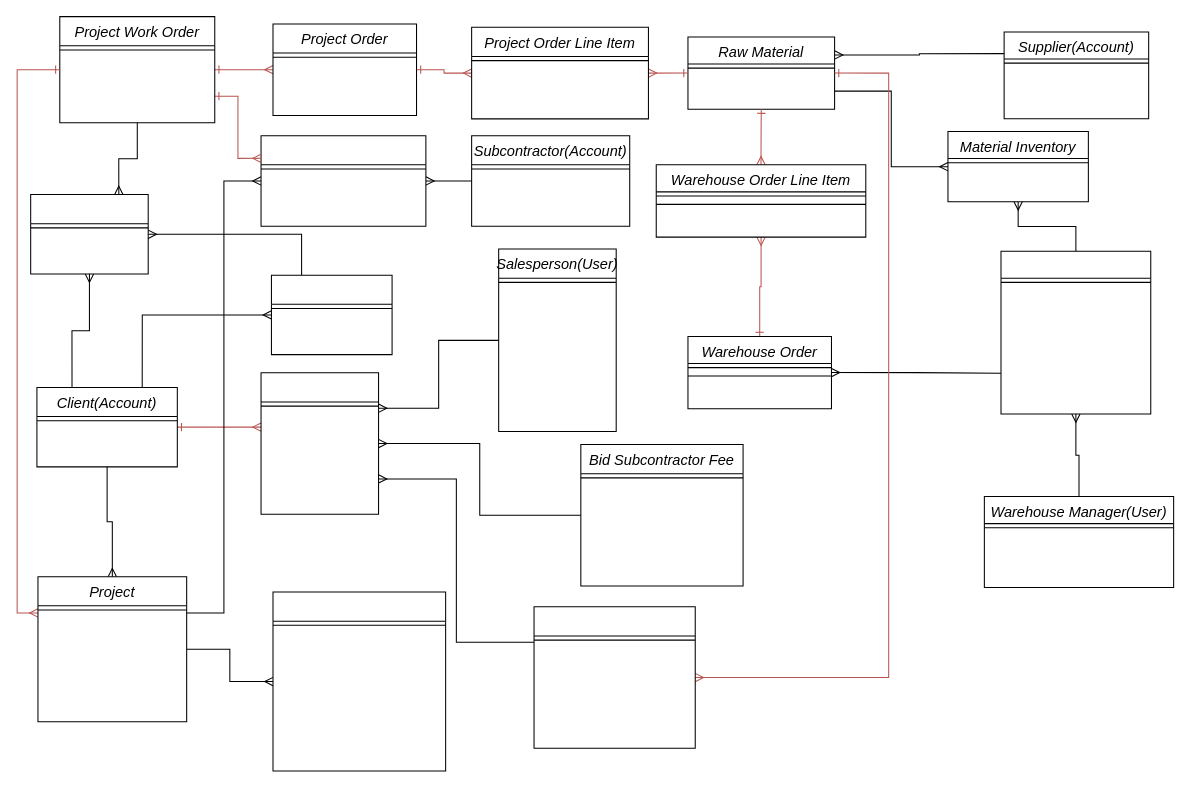
The diagram is 1191 pixels wide and 788 high, and some of its shapes have lost their labels. The centre of each missing label's shape, as x and y in pixels:
"Bid" goes at point (319, 443).
"Bid Raw Material" goes at point (614, 677).
"Invoice" goes at point (89, 234).
"Payment" goes at point (331, 314).
"Project Manager(User)" goes at point (359, 681).
"SubContractor Contract" goes at point (343, 180).
"Warehouse" goes at point (1075, 332).
